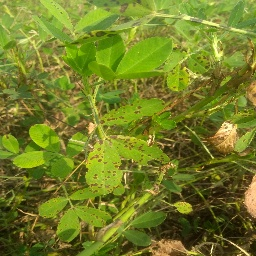GroundNut_Leaf: (117, 35, 176, 80), (84, 138, 124, 194), (100, 94, 164, 125), (126, 134, 173, 171), (88, 1, 157, 21), (28, 121, 63, 154), (58, 208, 82, 243), (126, 210, 167, 230), (33, 195, 67, 218), (167, 66, 192, 97), (11, 151, 56, 167), (1, 133, 20, 151)
